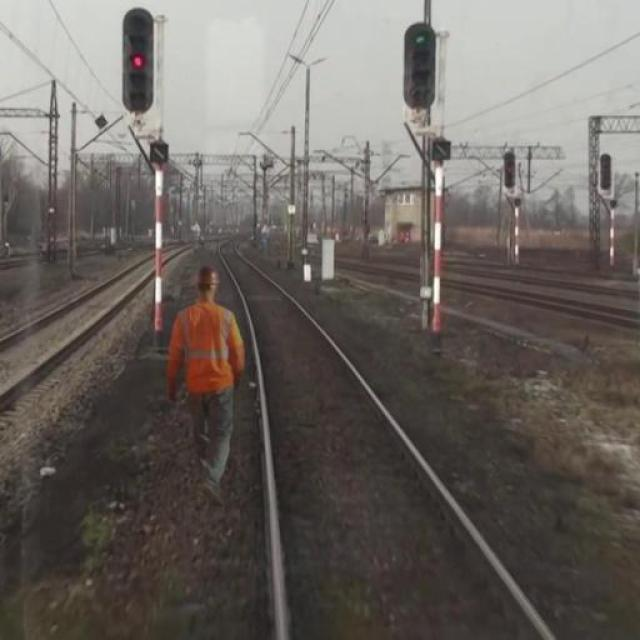people: (163, 254, 253, 523)
